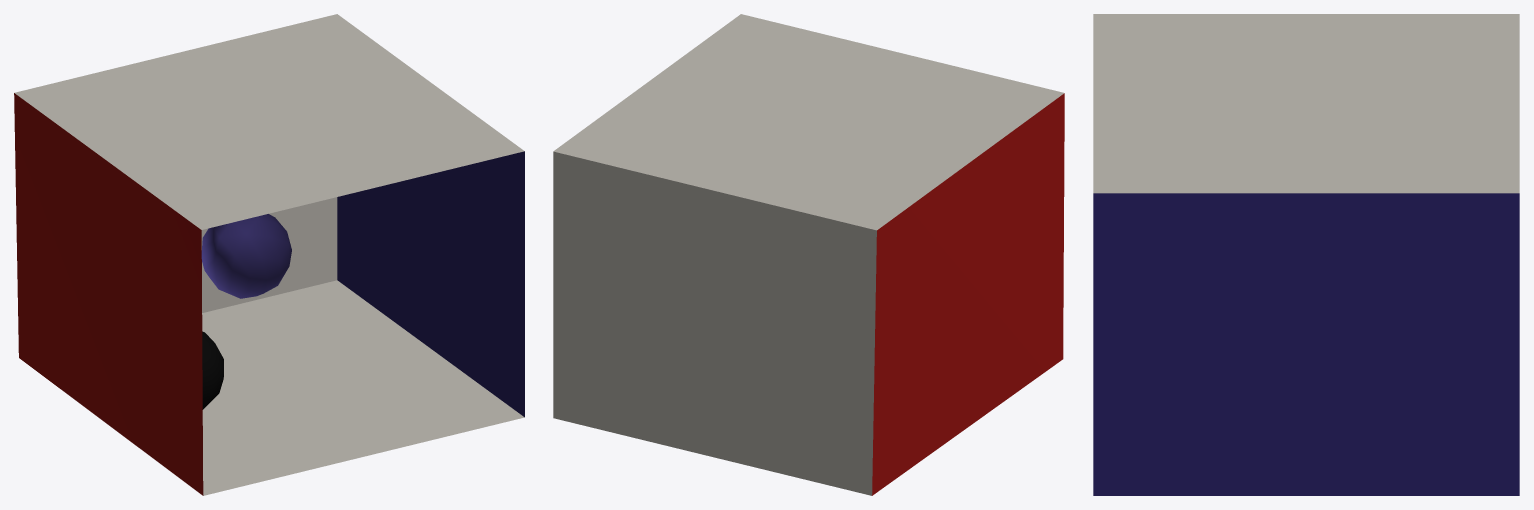
The model's file is CornellBox-Sphere-1074.obj.
3 views of the same model, side by side, from view 1: azimuth 30°, elevation 25°; view 2: azimuth 150°, elevation 25°; view 3: azimuth 270°, elevation 25° (orthographic). The views are drawn at different scales.
Visible parts, largest first — view 1: ceiling, leftWall, floor, rightWall, leftSphere, backWall, rightSphere; view 2: backWall, ceiling, leftWall; view 3: rightWall, ceiling.
Boxes of the visible parts, x1,y1,x2,y2 form: ceiling: (14,14,524,229); leftWall: (14,93,203,495); floor: (202,280,524,495); rightWall: (337,151,524,417); leftSphere: (201,214,291,298); backWall: (201,197,337,312); rightSphere: (202,331,223,409); backWall: (553,151,876,495); ceiling: (553,14,1064,230); leftWall: (872,93,1064,495); rightWall: (1093,193,1519,495); ceiling: (1093,14,1519,193).
Size of the model in its own units: 2.02 by 1.59 by 2.03.
